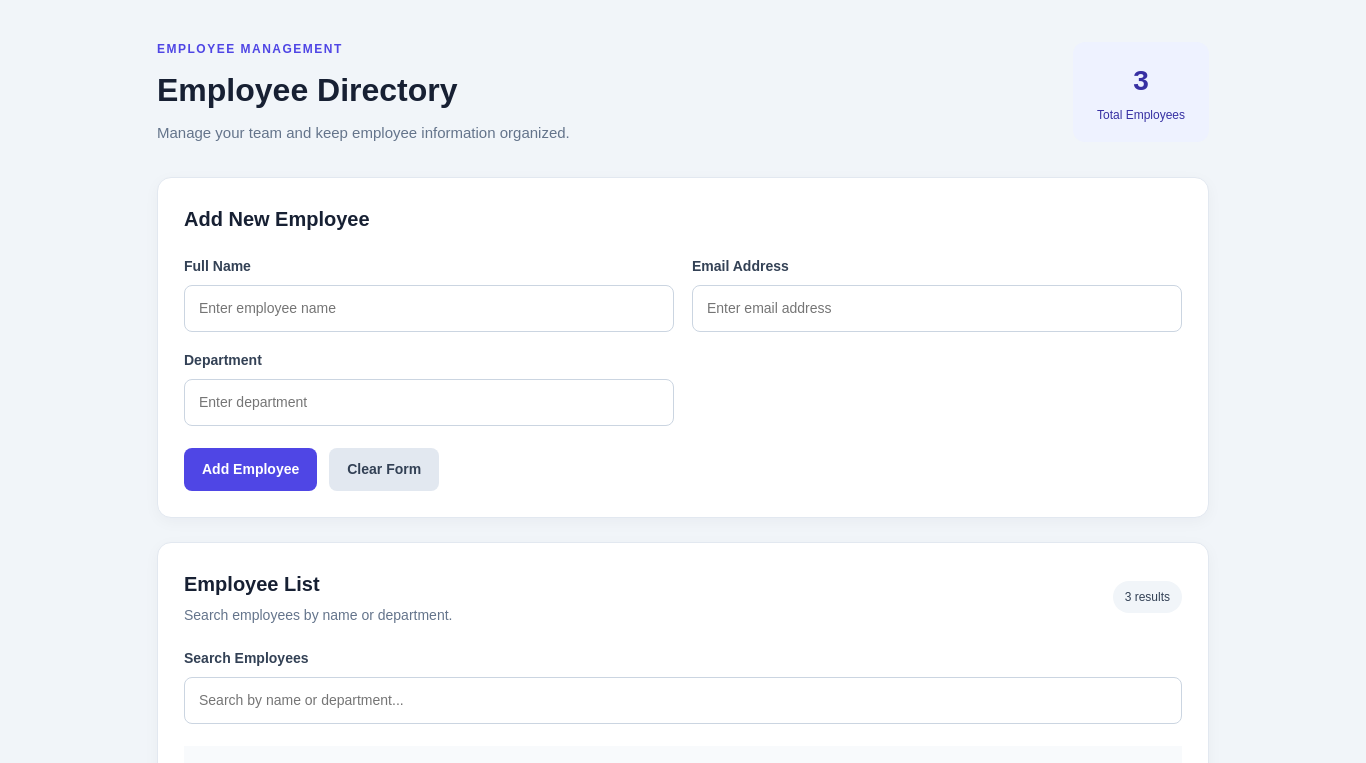
Employee Management Application › adds a new employee when the form is valid
Type "Amit Kumar" into the field labelled "Full Name".
click(429, 308); type("Amit Kumar")  # box 184,284 -> 674,332
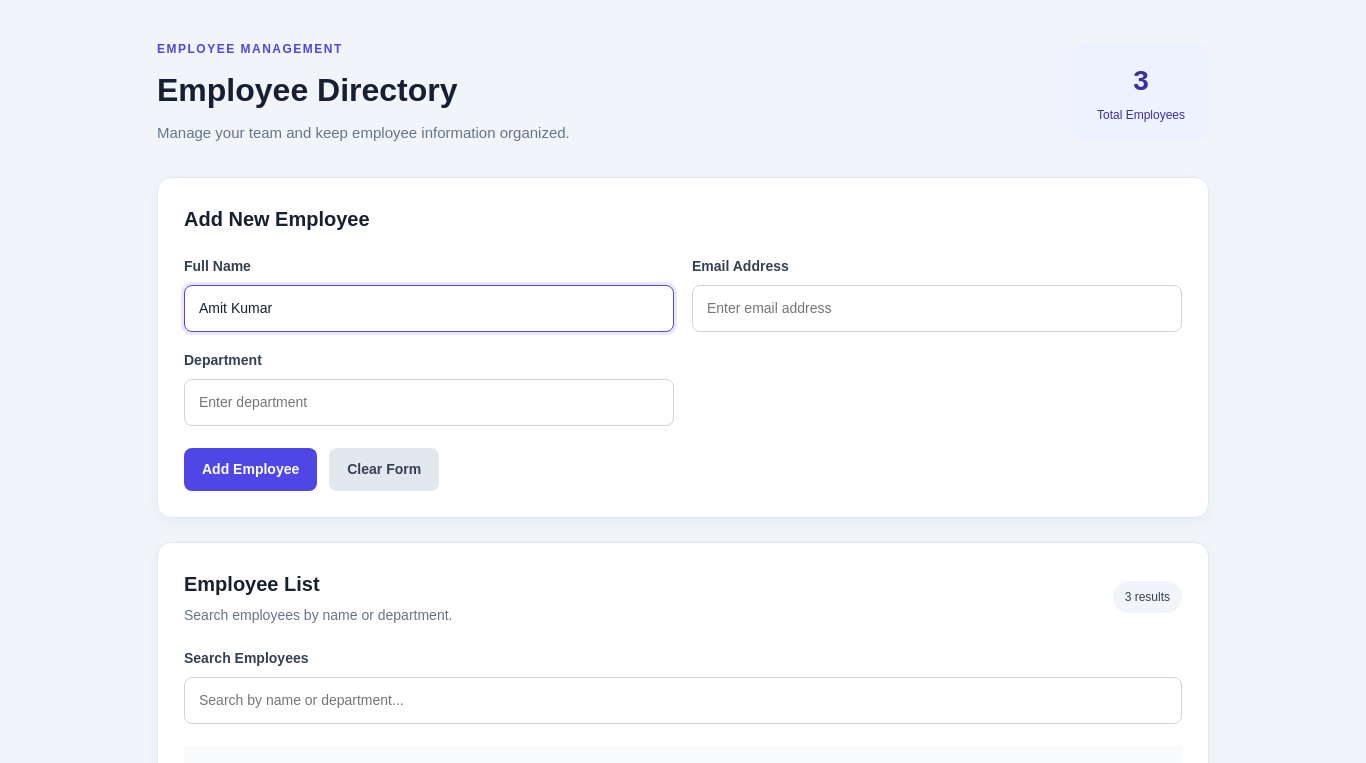
Type "amit@example.com" into the field labelled "Email Address".
click(937, 308); type("amit@example.com")  # box 692,284 -> 1182,332
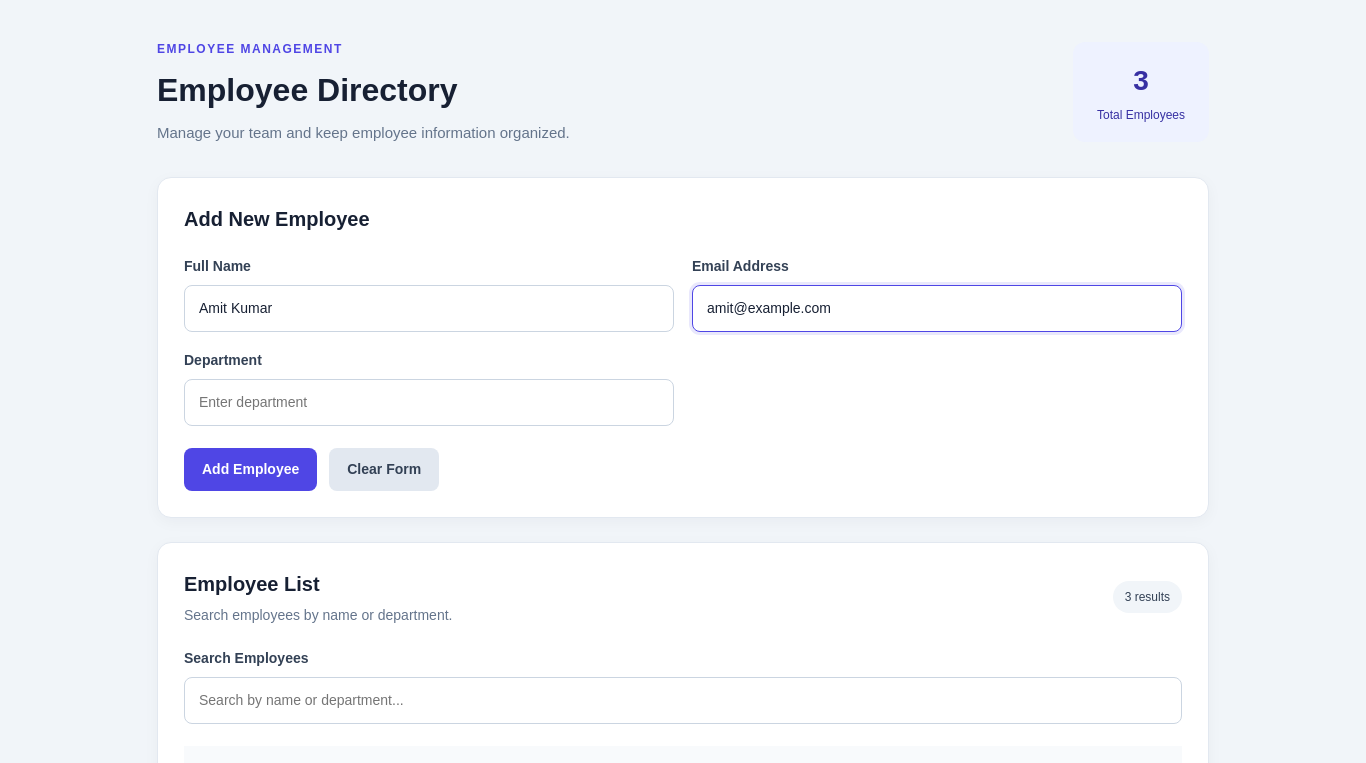
Type "Engineering" into the field labelled "Department".
click(429, 402); type("Engineering")  # box 184,378 -> 674,426
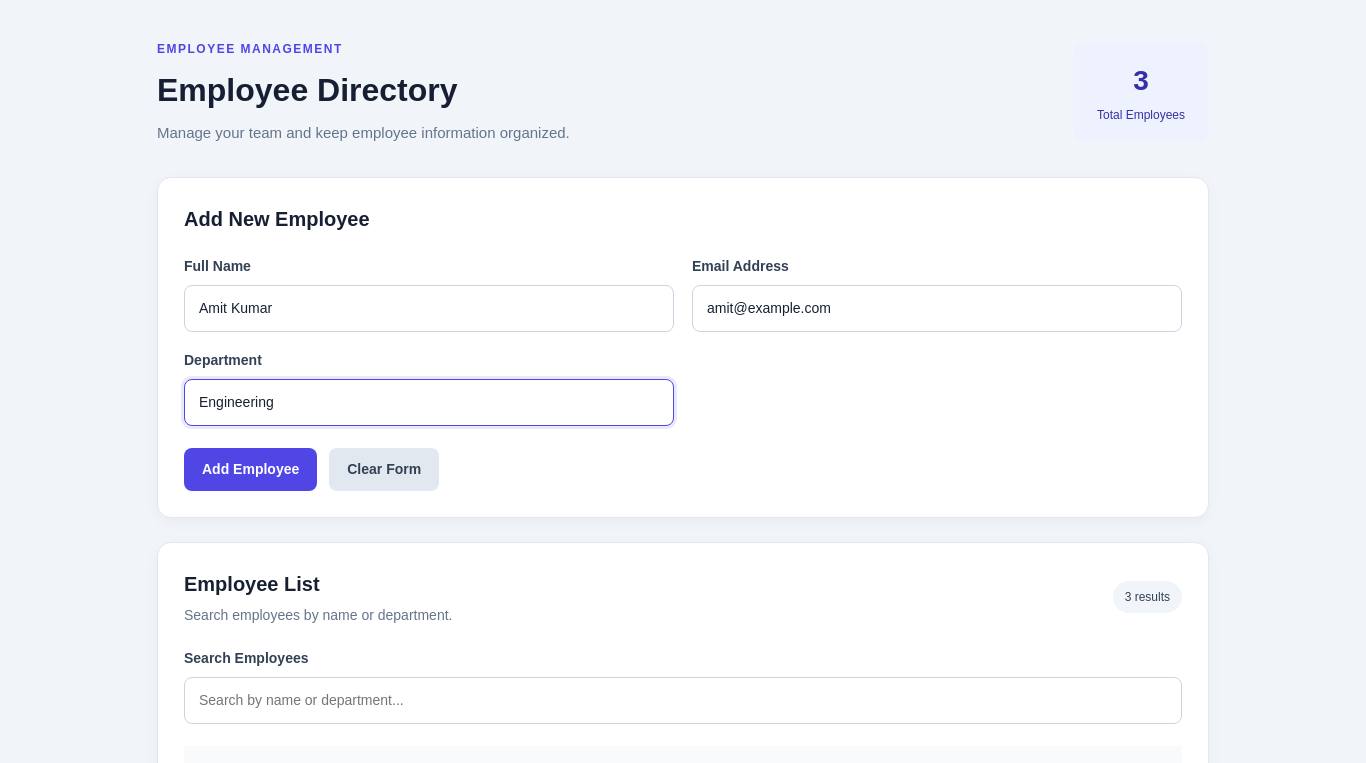
Click the button "Add Employee".
click(251, 469)  # box 184,448 -> 317,490
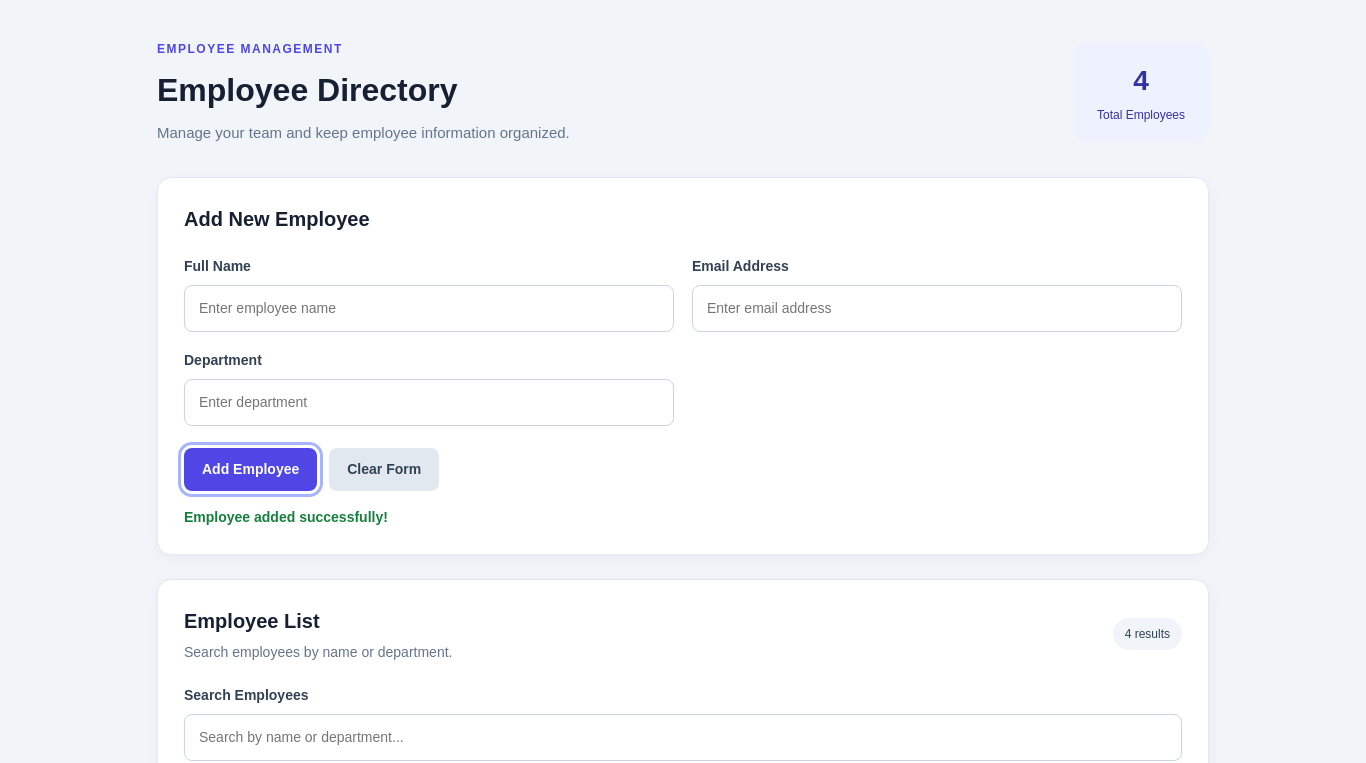
Check: the text "Employee added successfully!" is shown, box 184,508 -> 388,524
